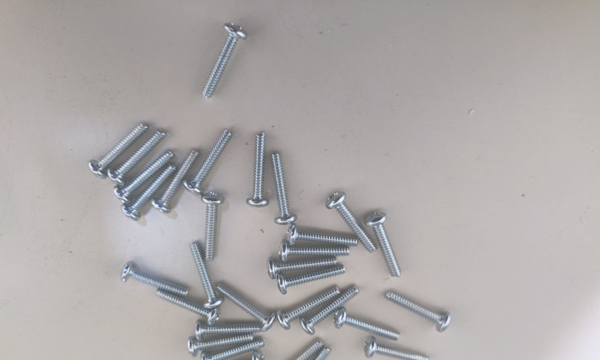longscrew: (197, 23, 245, 103), (186, 126, 234, 198), (324, 190, 376, 256), (148, 153, 201, 215), (124, 160, 177, 222), (117, 149, 173, 207), (110, 129, 166, 187), (90, 122, 146, 180), (296, 284, 358, 336), (117, 261, 192, 301), (384, 291, 457, 332), (211, 282, 276, 328), (273, 286, 340, 330), (366, 209, 406, 277), (332, 309, 399, 347), (273, 145, 301, 227), (244, 128, 271, 211), (156, 292, 217, 327), (275, 266, 347, 295), (190, 243, 223, 306), (282, 224, 360, 250), (275, 234, 353, 260), (263, 253, 340, 279), (363, 336, 431, 360), (198, 189, 220, 263), (187, 334, 249, 360), (200, 340, 263, 360), (187, 322, 265, 337), (269, 343, 319, 360), (281, 352, 331, 360), (200, 354, 263, 360)
